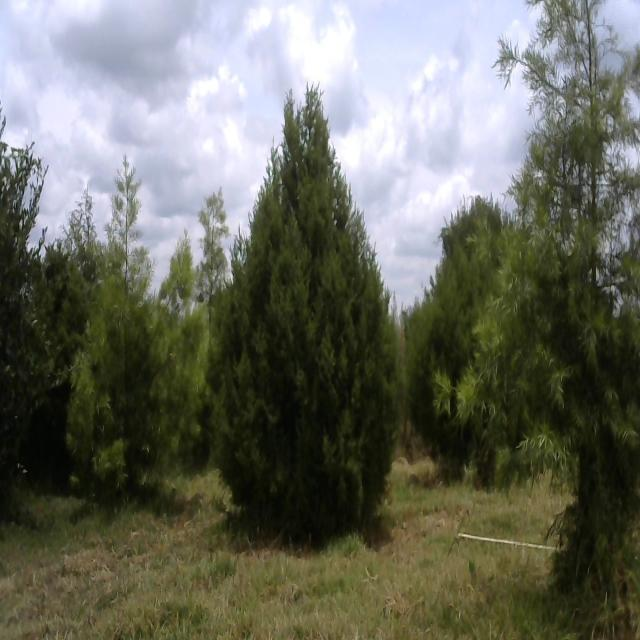Juniperus procesera: (223, 71, 409, 546)
Olea europea -africana-: (0, 120, 65, 528)
Podocarpus falcatus: (478, 4, 640, 590), (70, 155, 201, 517)
